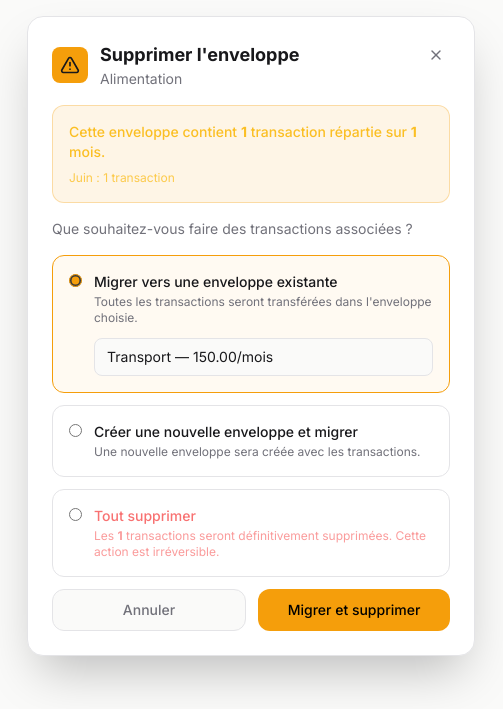
it: DeleteEnvelopeModal › edge cases › shows loading state during operation
This screenshot has width=503, height=709.
Click the button "Migrer et supprimer" at (354, 610), box [258,589,450,631]
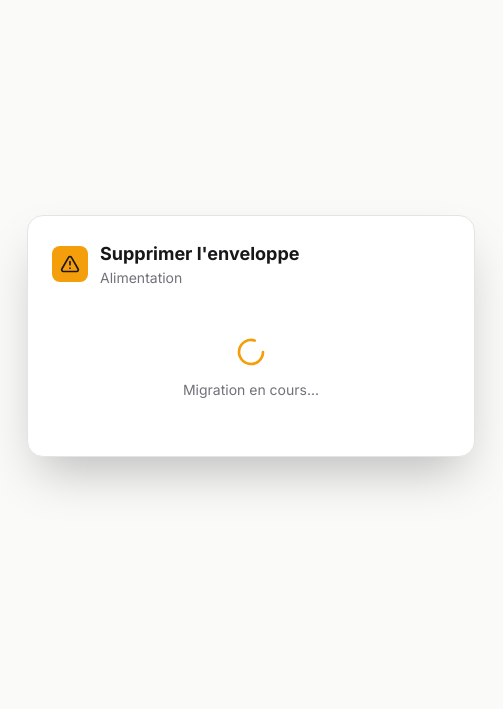
Result: the text "Migration en cours..." is shown at [183,380,319,400]
